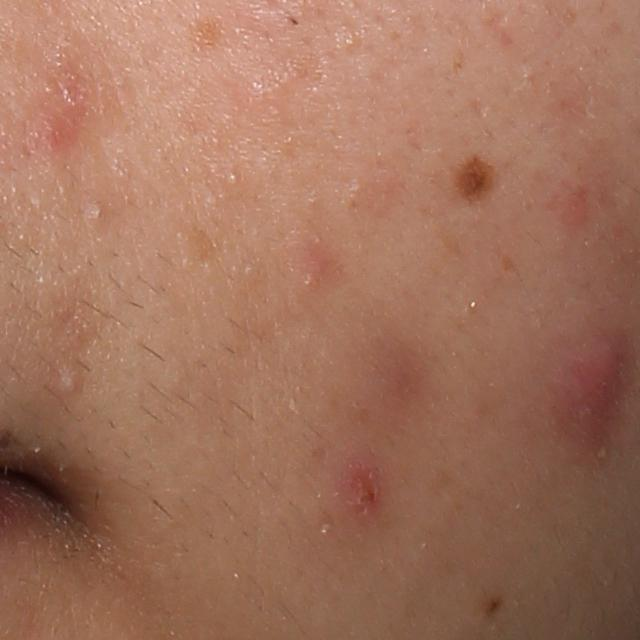comedo: (58, 372, 83, 396), (90, 201, 111, 225), (227, 168, 239, 186)
nevus: (452, 152, 502, 199), (483, 593, 505, 615)
nodule: (557, 344, 619, 436)
papule: (321, 458, 400, 528), (297, 237, 336, 293)
